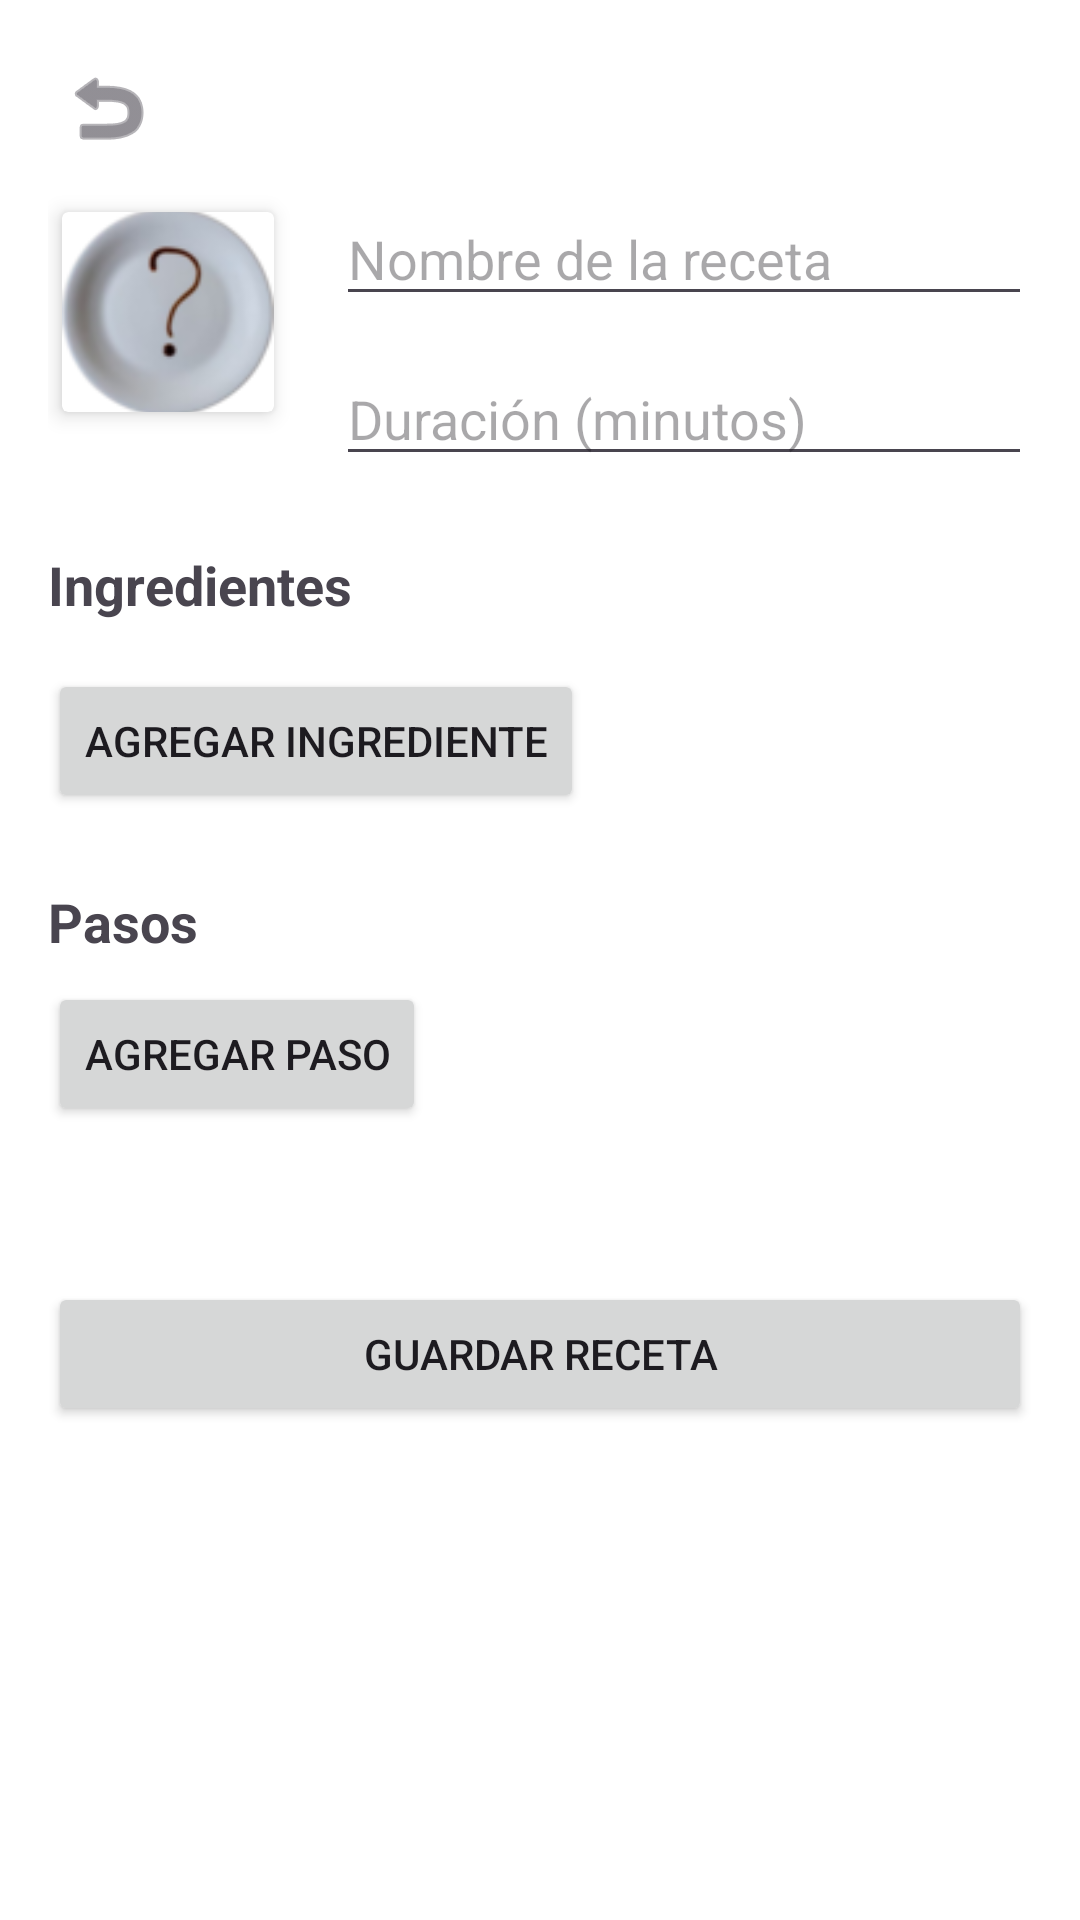

Where icons sit on this 1080 × 1920 app screen, as [x1,y1,x2,y2]:
Volver: [75,77,144,140]
